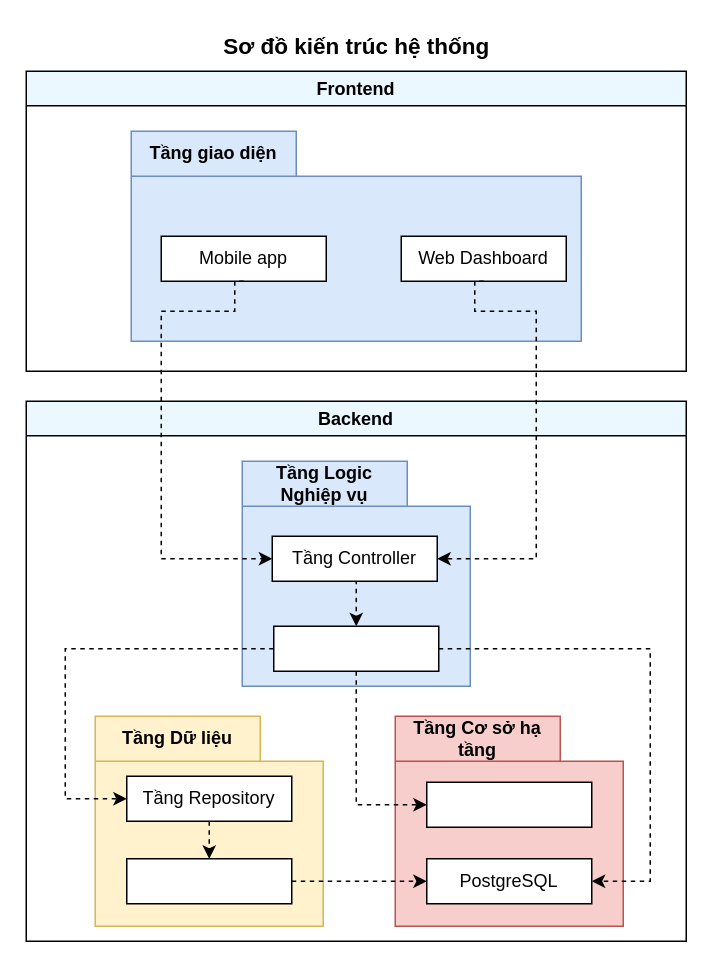
Some shapes in this 713 by 968 pixel diagram are drawn without their labels. Each missing label, with the centre of its shape:
"FCM, Email" belongs at point 508,804.
"Tầng Domain" belongs at point 208,880.
"Tầng Service" belongs at point 355,648.
